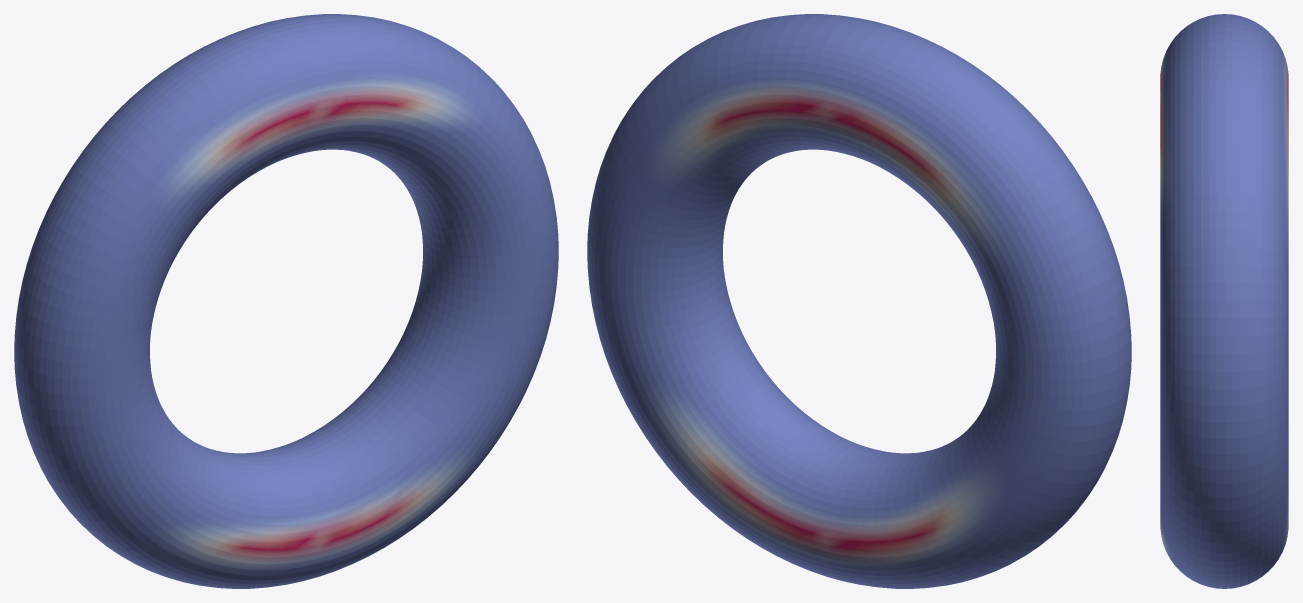
3 views of the same model, side by side, from view 1: azimuth 30°, elevation 25°; view 2: azimuth 150°, elevation 25°; view 3: azimuth 270°, elevation 25° (orthographic). The views are drawn at different scales.
Visible parts, largest first — view 1: world; view 2: world; view 3: world.
Part boxes in pixels (bbox=[...]): world: bbox=[14, 14, 558, 588]; world: bbox=[587, 14, 1131, 588]; world: bbox=[1160, 14, 1288, 588].
Bounding box in the file's own units: 13.73 × 13.73 × 3.06.
